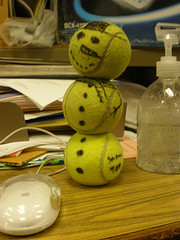tennis ball: (65, 14, 136, 85), (61, 73, 129, 137), (61, 126, 131, 187)
